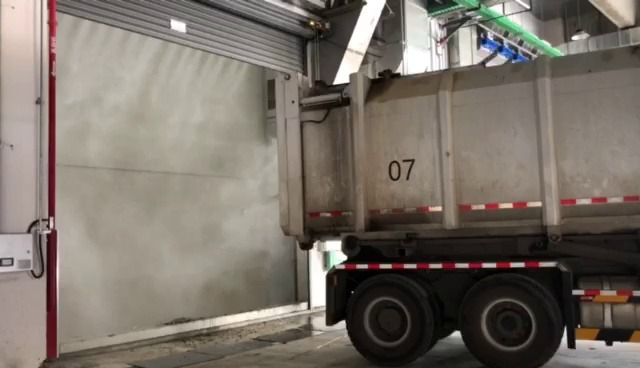dust: (57, 141, 278, 323)
truck: (289, 36, 640, 368)
